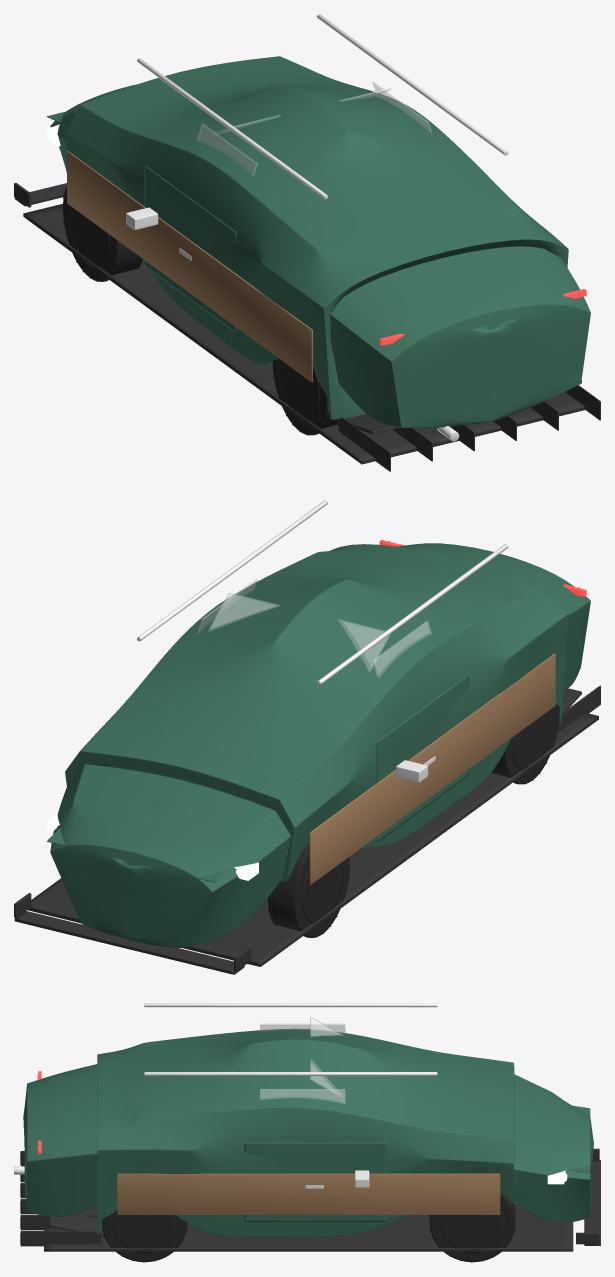
File: vehicle.opt.glb
3 views of the same model, one above another, from view 1: azimuth 30°, elevation 25°; view 2: azimuth 150°, elevation 25°; view 3: azimuth 270°, elevation 25° (orthographic). The views are drawn at different scales.
Parts seen in each view (by area): view 1: BODY_MainShell, JEWELRY_Wagoneer_WoodgrainSiding, UNDERBODY_FlatFloor, BODY_Door_FL, WHEEL_FL_Tire, WHEEL_RL_Tire, JEWELRY_Wagoneer_RoofRack, GLASS_Greenhouse, AERO_FrontSplitter, JEWELRY_Hardware; view 2: BODY_MainShell, JEWELRY_Wagoneer_WoodgrainSiding, UNDERBODY_FlatFloor, WHEEL_FL_Tire, BODY_Door_FL, GLASS_Greenhouse, AERO_FrontSplitter, WHEEL_RL_Tire, JEWELRY_Wagoneer_RoofRack, JEWELRY_Hardware; view 3: BODY_MainShell, JEWELRY_Wagoneer_WoodgrainSiding, UNDERBODY_FlatFloor, BODY_Door_FR, WHEEL_FR_Tire, WHEEL_RR_Tire, JEWELRY_Wagoneer_RoofRack, GLASS_Greenhouse, AERO_FrontSplitter.
Boxes of the visible parts, left/top/right/bottom form: BODY_MainShell: left=50, top=56, right=590, bottom=427; JEWELRY_Wagoneer_WoodgrainSiding: left=67, top=151, right=312, bottom=382; UNDERBODY_FlatFloor: left=23, top=204, right=600, bottom=471; BODY_Door_FL: left=144, top=165, right=236, bottom=332; WHEEL_FL_Tire: left=62, top=186, right=142, bottom=281; WHEEL_RL_Tire: left=272, top=358, right=338, bottom=435; JEWELRY_Wagoneer_RoofRack: left=137, top=14, right=508, bottom=199; GLASS_Greenhouse: left=197, top=82, right=431, bottom=176; AERO_FrontSplitter: left=14, top=183, right=66, bottom=207; JEWELRY_Hardware: left=126, top=207, right=191, bottom=260; BODY_MainShell: left=50, top=543, right=590, bottom=947; JEWELRY_Wagoneer_WoodgrainSiding: left=309, top=653, right=555, bottom=884; UNDERBODY_FlatFloor: left=27, top=685, right=600, bottom=966; WHEEL_FL_Tire: left=267, top=841, right=350, bottom=937; BODY_Door_FL: left=376, top=674, right=468, bottom=842; GLASS_Greenhouse: left=197, top=579, right=431, bottom=677; AERO_FrontSplitter: left=14, top=893, right=251, bottom=974; WHEEL_RL_Tire: left=491, top=698, right=560, bottom=784; JEWELRY_Wagoneer_RoofRack: left=137, top=500, right=508, bottom=685; JEWELRY_Hardware: left=126, top=699, right=435, bottom=782; BODY_MainShell: left=23, top=1028, right=593, bottom=1237; JEWELRY_Wagoneer_WoodgrainSiding: left=117, top=1173, right=500, bottom=1214; UNDERBODY_FlatFloor: left=20, top=1151, right=573, bottom=1251; BODY_Door_FR: left=244, top=1142, right=387, bottom=1221; WHEEL_FR_Tire: left=429, top=1192, right=515, bottom=1262; WHEEL_RR_Tire: left=102, top=1209, right=187, bottom=1262; JEWELRY_Wagoneer_RoofRack: left=144, top=1003, right=437, bottom=1075; GLASS_Greenhouse: left=260, top=1017, right=345, bottom=1103; AERO_FrontSplitter: left=576, top=1148, right=600, bottom=1245.
Size of what is drawn, in the model's own units: 2.23 by 1.67 by 4.94.
